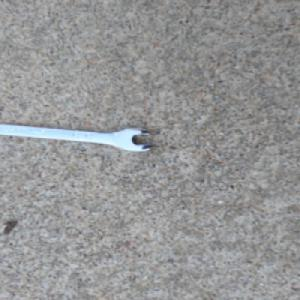Wrench: (0, 122, 155, 153)
